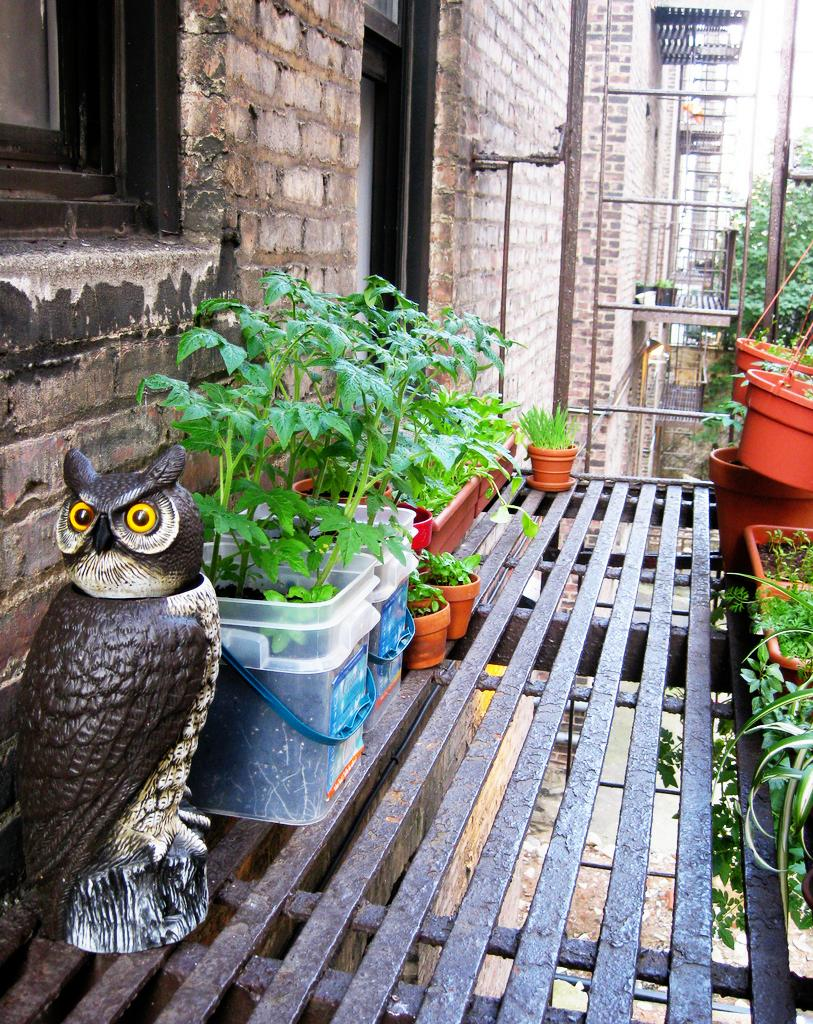Owl: (0, 440, 229, 986)
